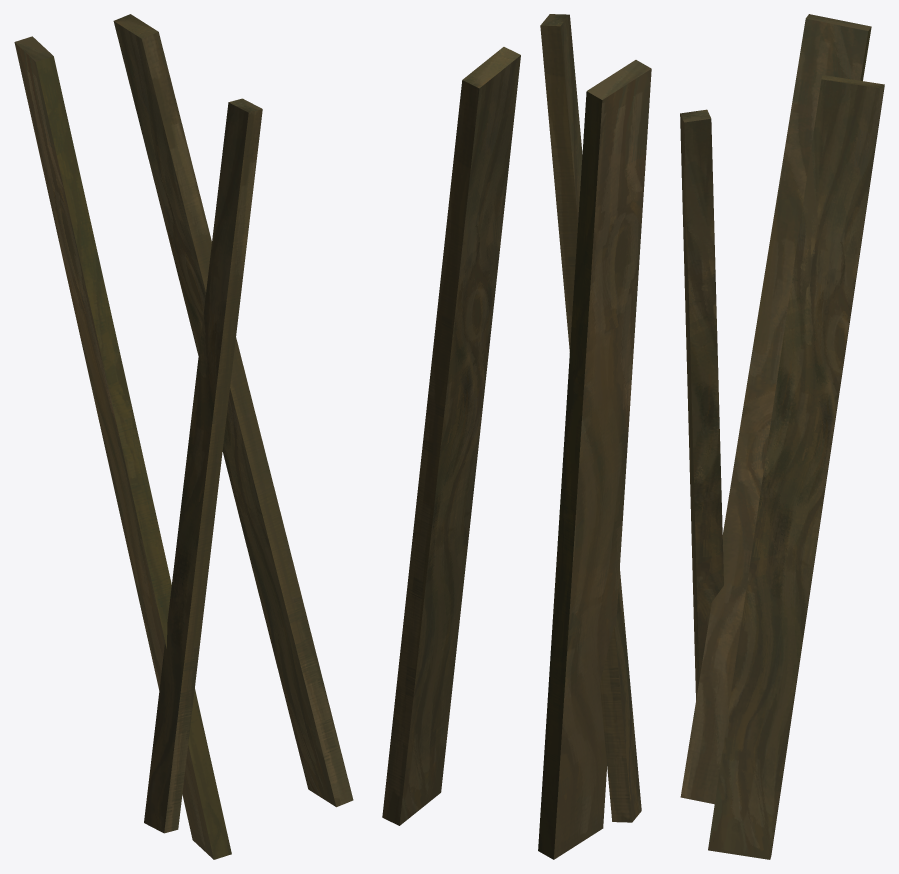
The model's file is Debris_water02.fbx.
The picture shows the model from 3 angles, left to right: view 1: azimuth 30°, elevation 25°; view 2: azimuth 150°, elevation 25°; view 3: azimuth 270°, elevation 25°; orthographic projection. The views are drawn at different scales.
Visible parts, largest first — view 1: Debris_water02; view 2: Debris_water02; view 3: Debris_water02.
Part boxes in pixels (left/top/right/bottom): Debris_water02: left=14, top=14, right=353, bottom=859; Debris_water02: left=382, top=14, right=651, bottom=859; Debris_water02: left=680, top=14, right=884, bottom=859.
Size of the model in its own units: 1.71 by 4.77 by 1.2.
Materials: 1 (1 with a texture image).
